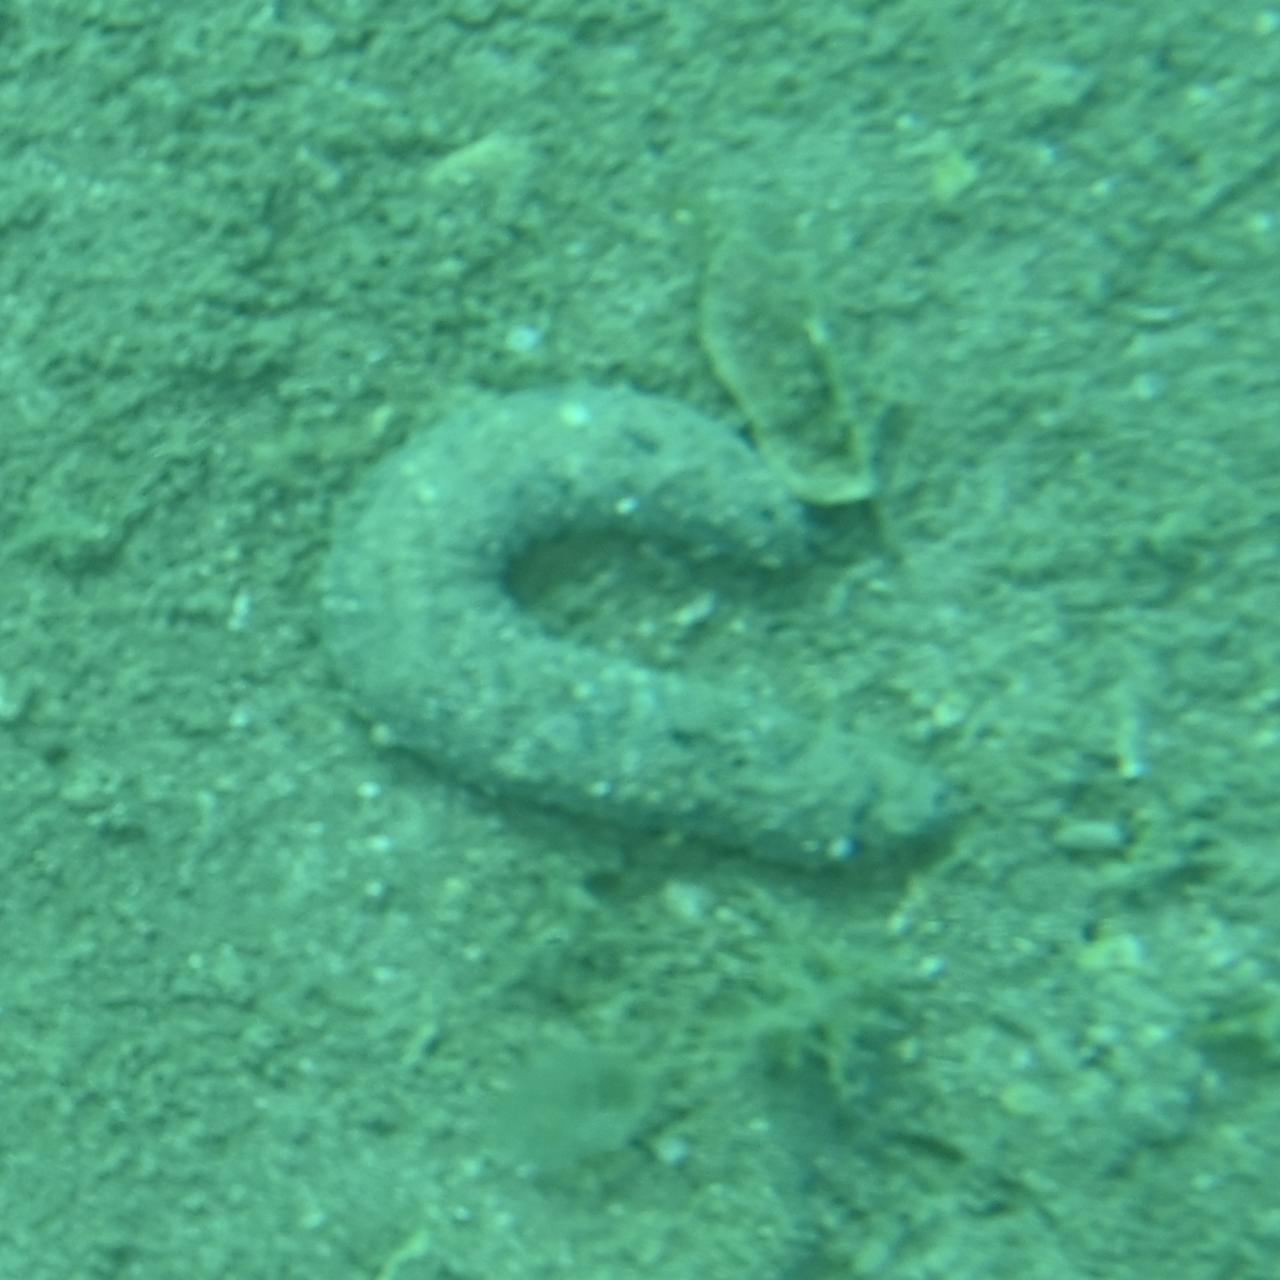Holothuria tubulosa: (316, 384, 964, 896)
